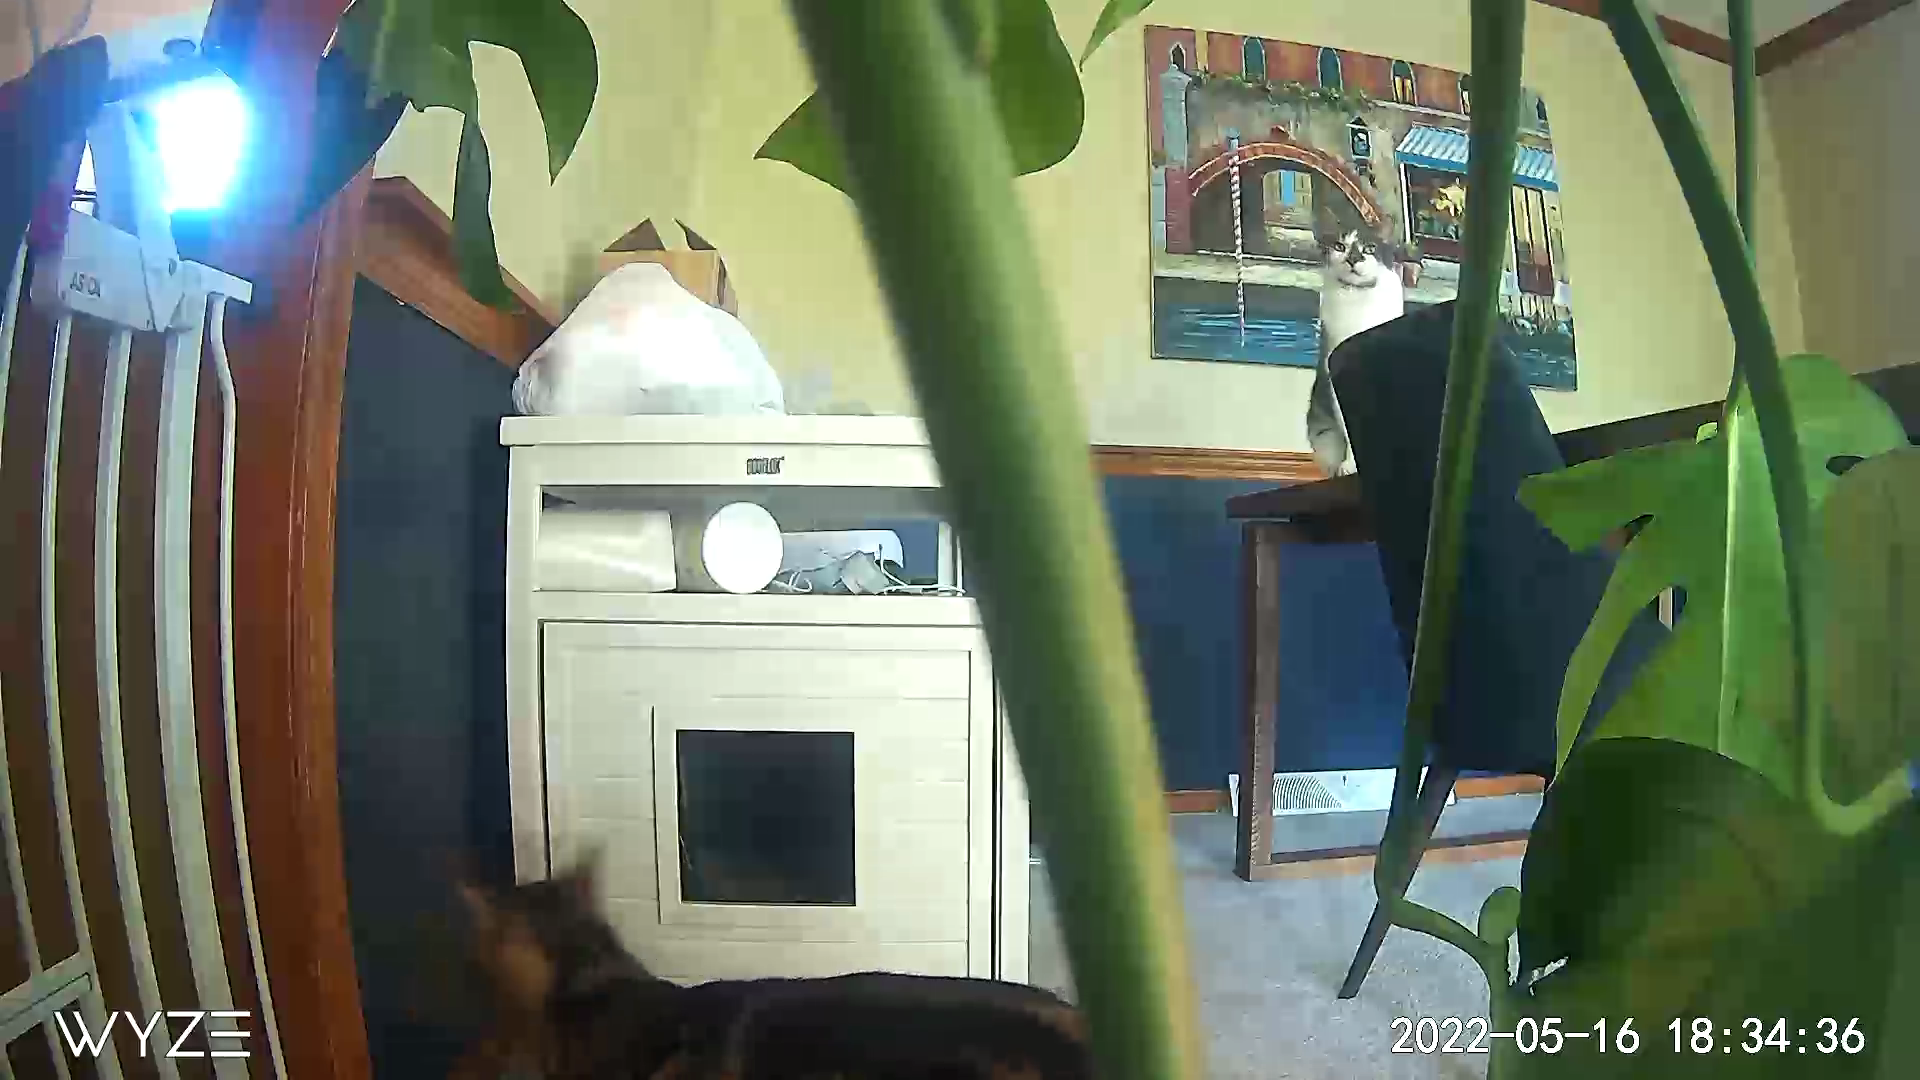sparky: (448, 844, 868, 1080)
